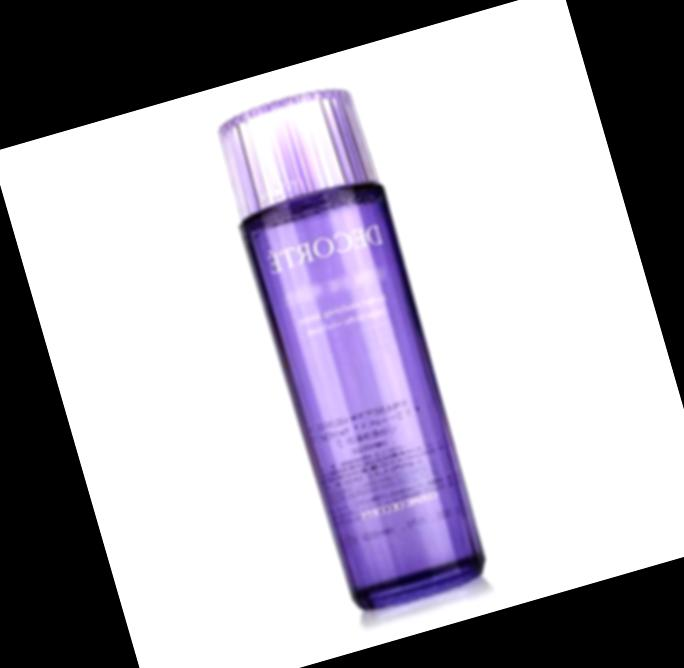cosmetic: (205, 81, 504, 620)
